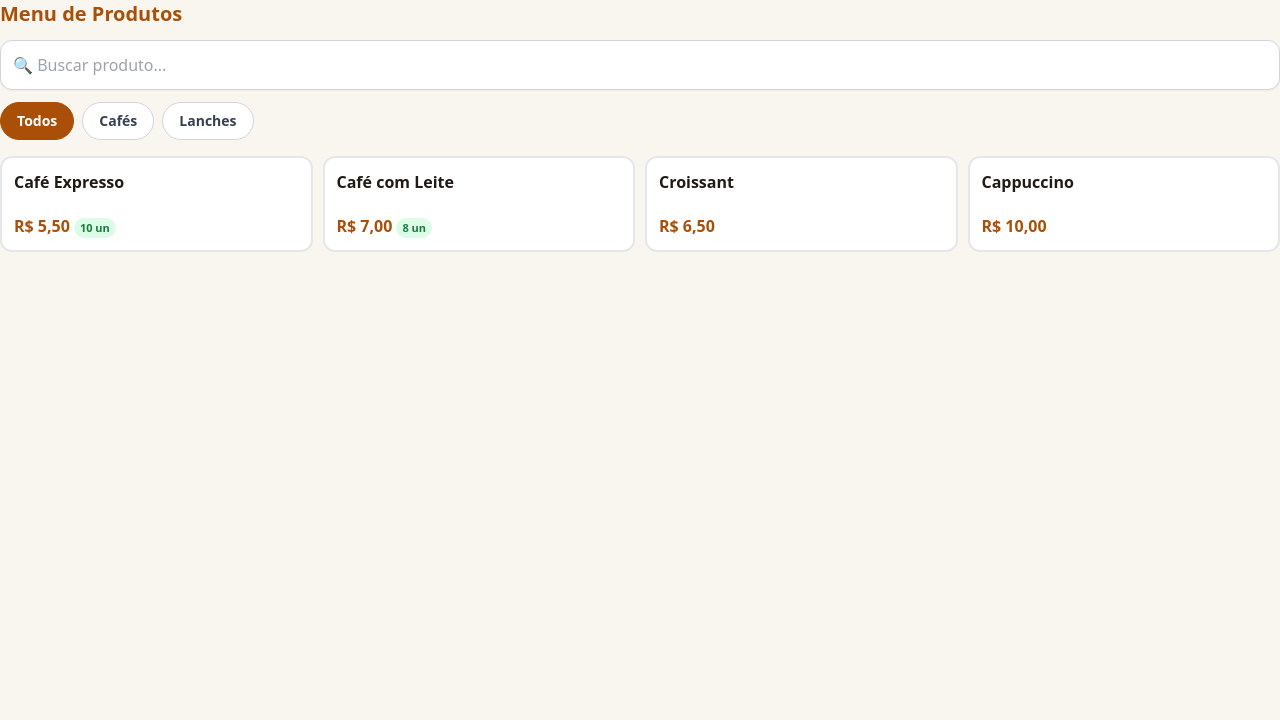
Test: PDV no celular: fluxo de venda › toca no produto, abre o pedido, paga em dinheiro com troco e registra a venda
Click the button with aria-label "Adicionar Café Expresso": (69, 182) [0, 156, 312, 252]
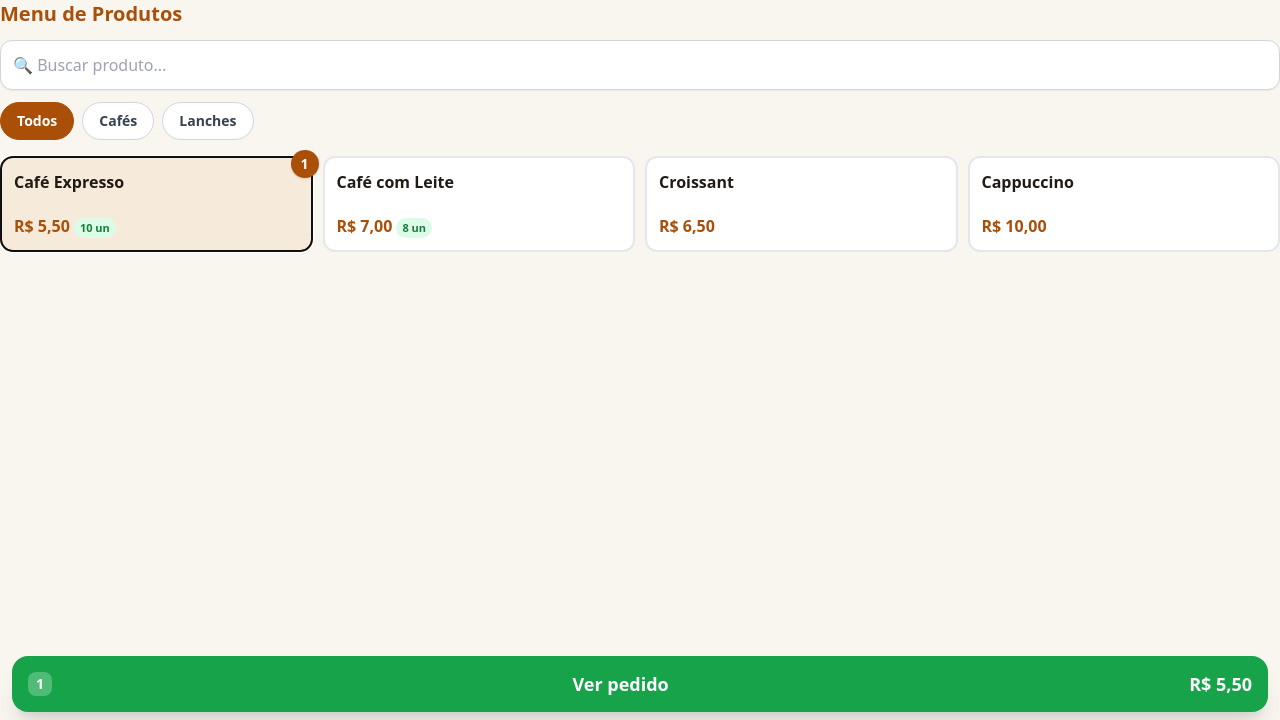
Click the button with aria-label "Adicionar Café Expresso": (69, 182) [0, 156, 312, 252]
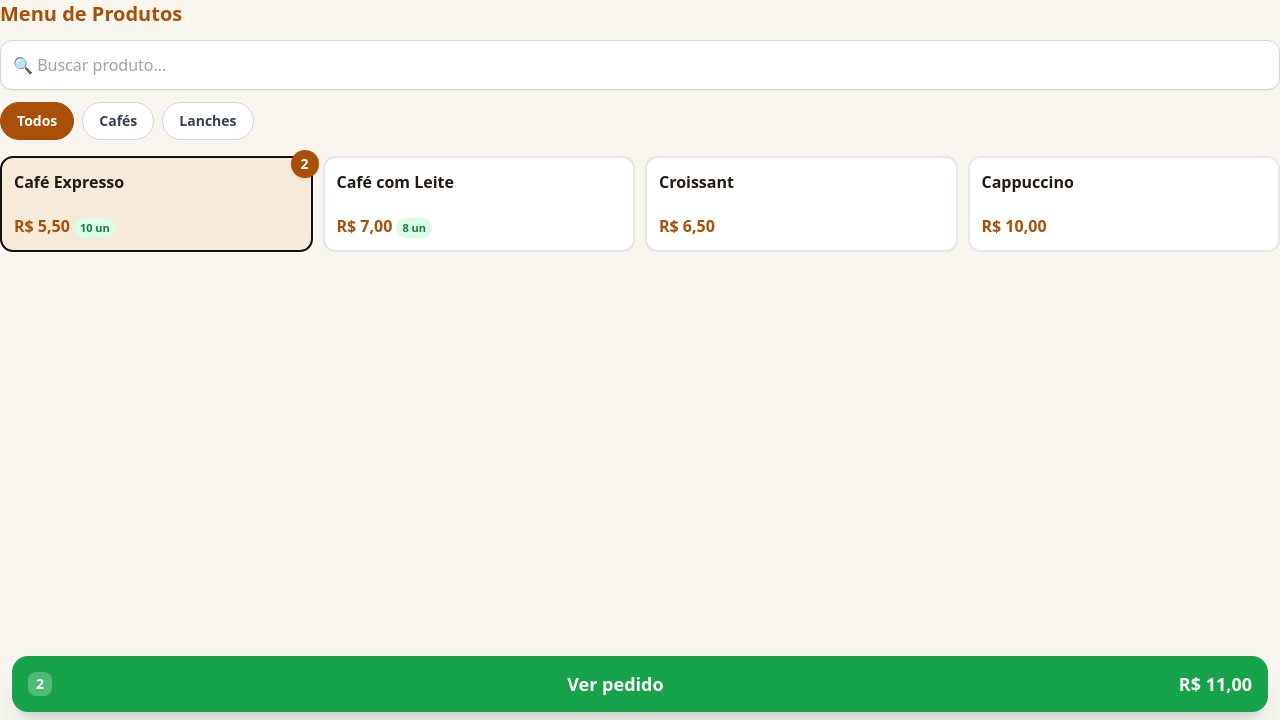
Expected: the text named "2 no pedido" is shown, [290, 150, 318, 178]
Click the button "2 Ver pedido R$ 11,00": (640, 684) [12, 656, 1268, 712]
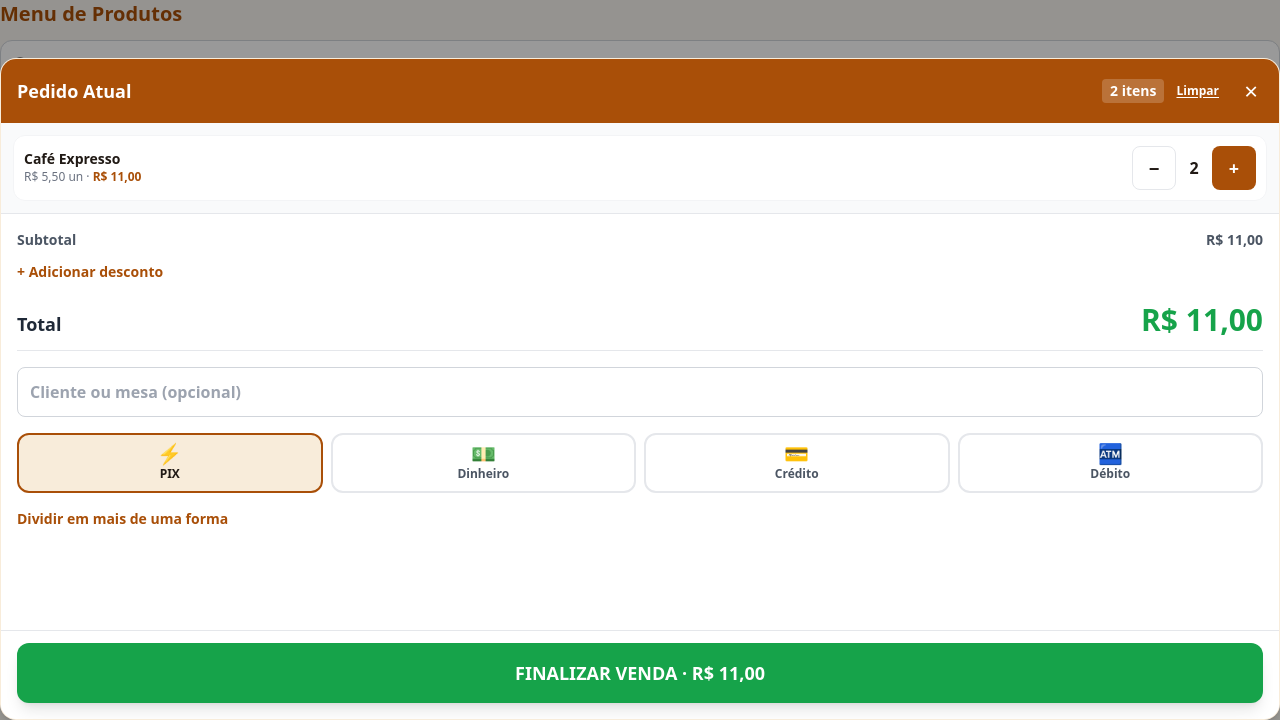
Expected: the dialog "Pedido Atual" is shown
Click the radio button labelled "💵 Dinheiro": (483, 463) [330, 433, 636, 493]
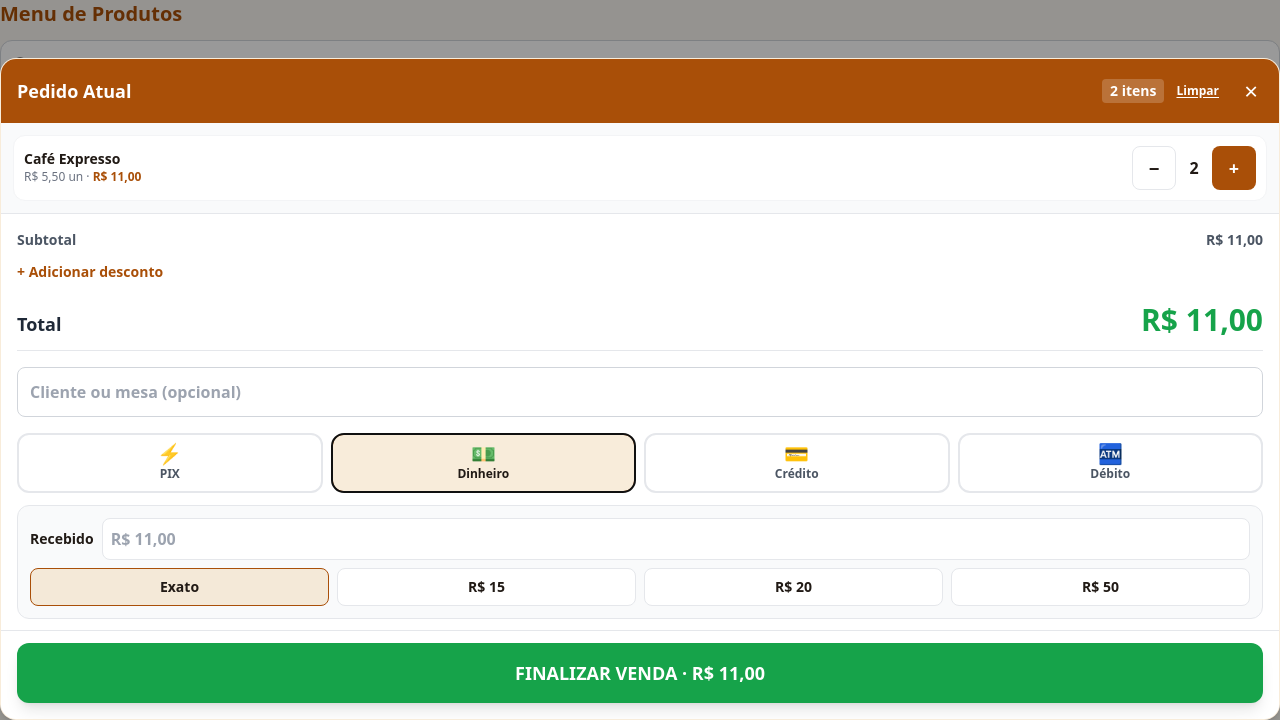
Click the button "R$ 20": (794, 587) [644, 568, 943, 606]
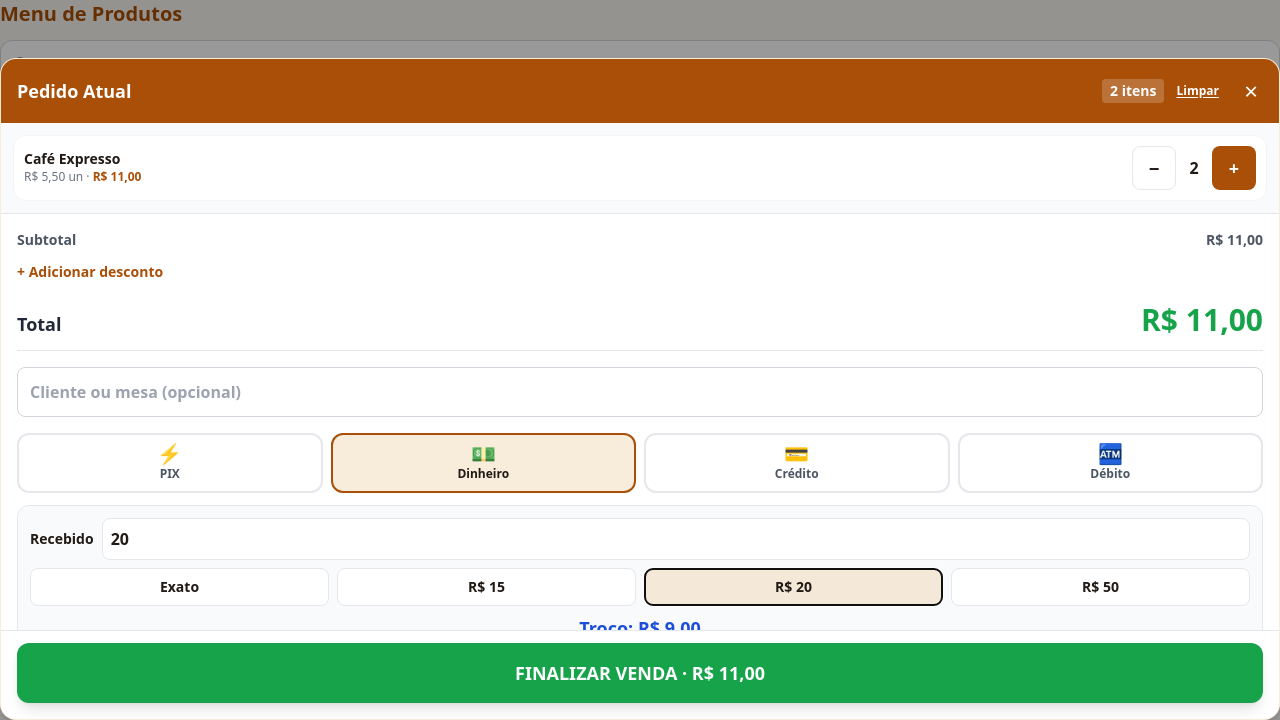
Click the button "FINALIZAR VENDA · R$ 11,00": (640, 673) [17, 643, 1263, 703]
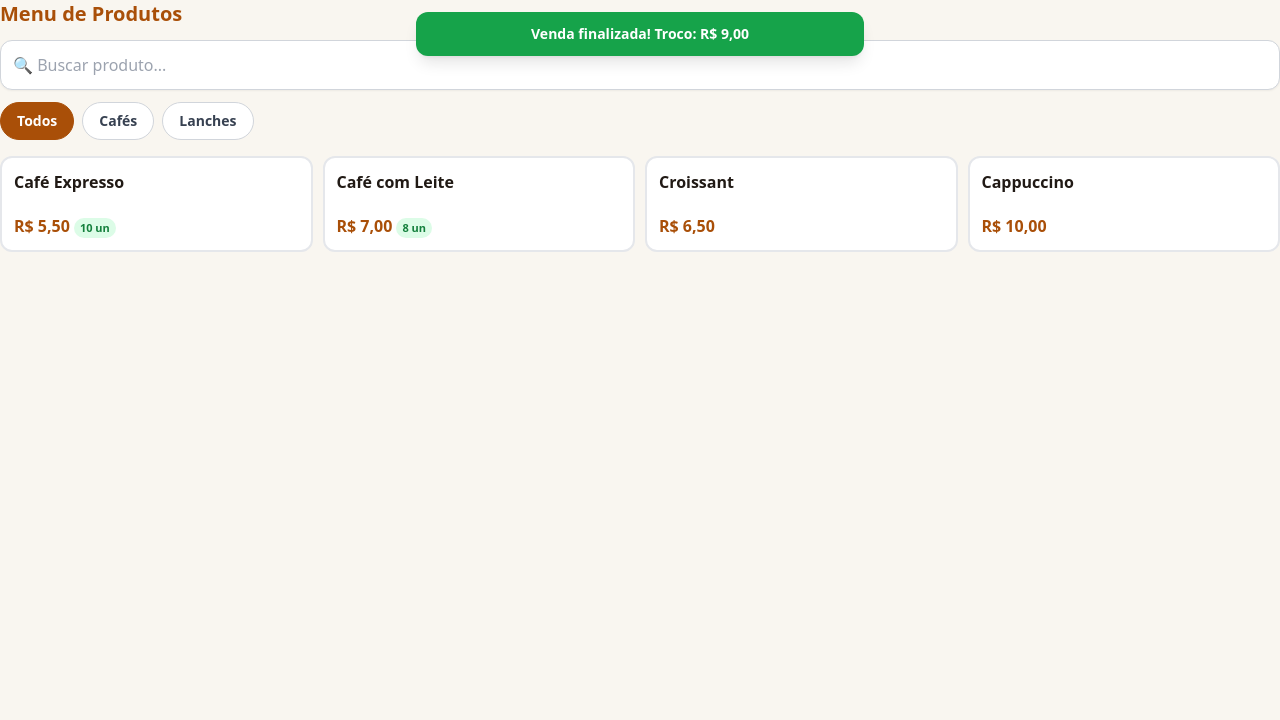
Expected: the button "Ver pedido" is not shown
Expected: the heading "Pedido Atual" is gone
